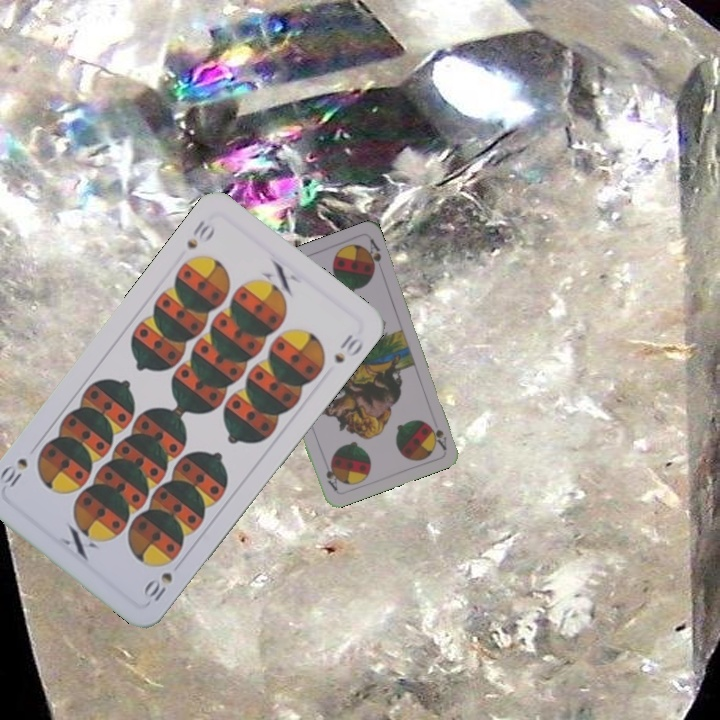S10: (182, 215, 218, 252), (141, 568, 176, 604)
SA: (428, 424, 449, 452)
